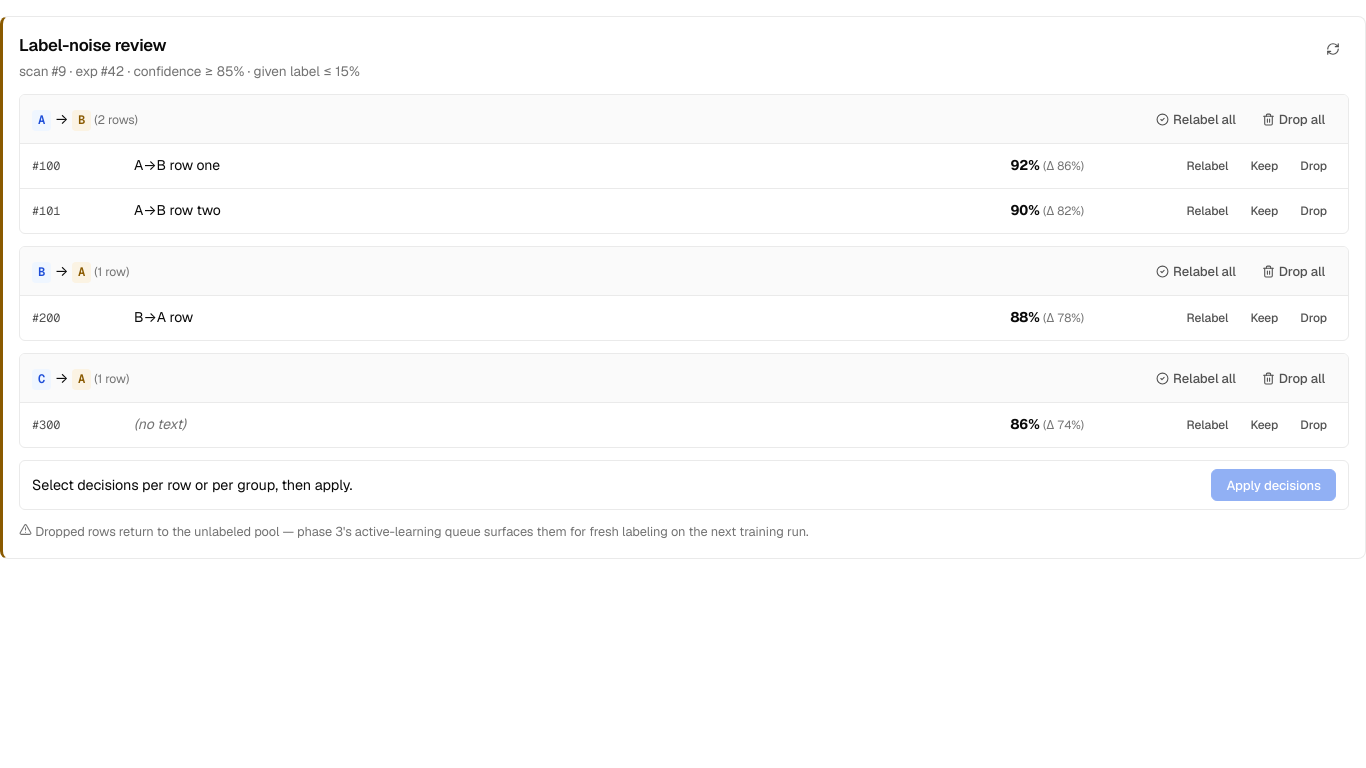
Test: LabelNoiseReviewPanel › renders per-row buttons that toggle decisions
Click the button "Drop" in the row of "100": (1314, 166) x1=1291 y1=152 x2=1336 y2=180
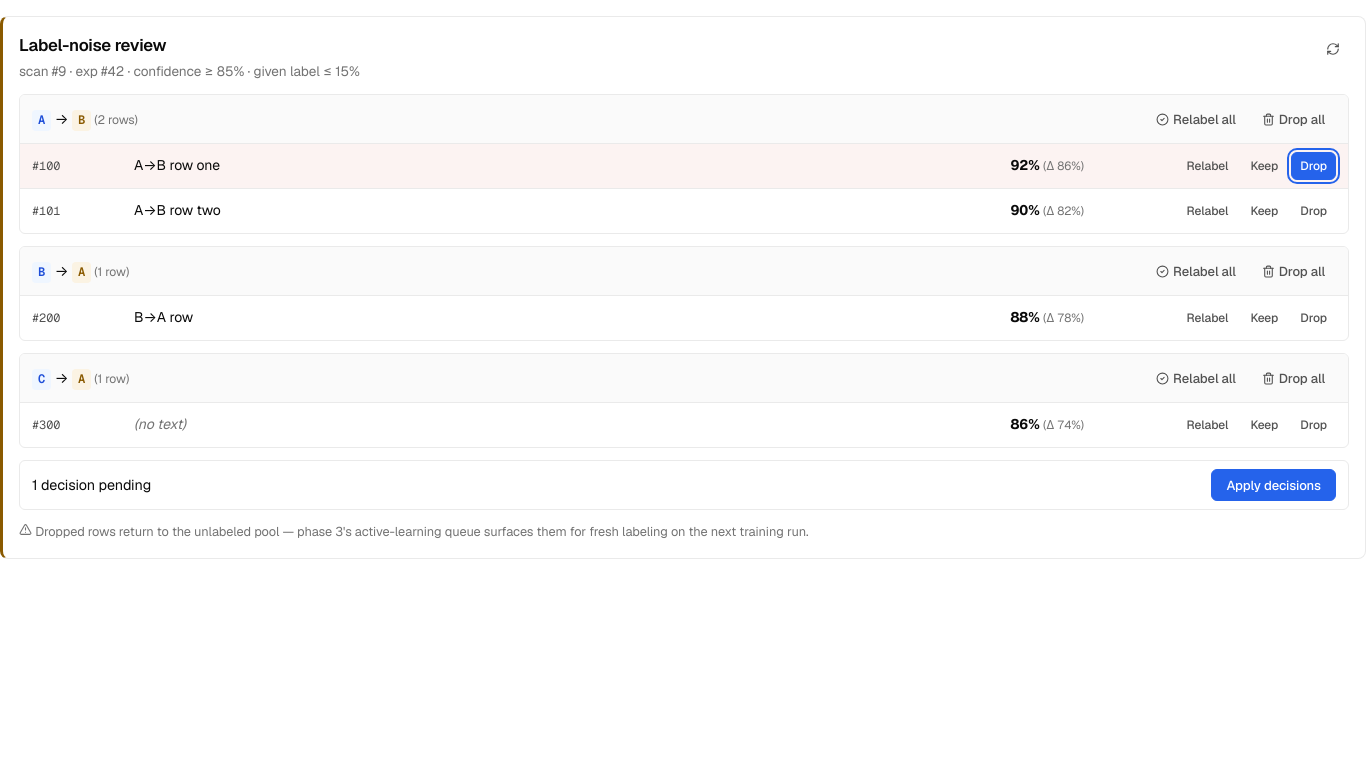
Now the text "1 decision pending" is shown, box x1=32 y1=474 x2=151 y2=496
# Click the same button again to toggle off.
Click the button "Drop" in the row of "100": (1314, 166) x1=1291 y1=152 x2=1336 y2=180
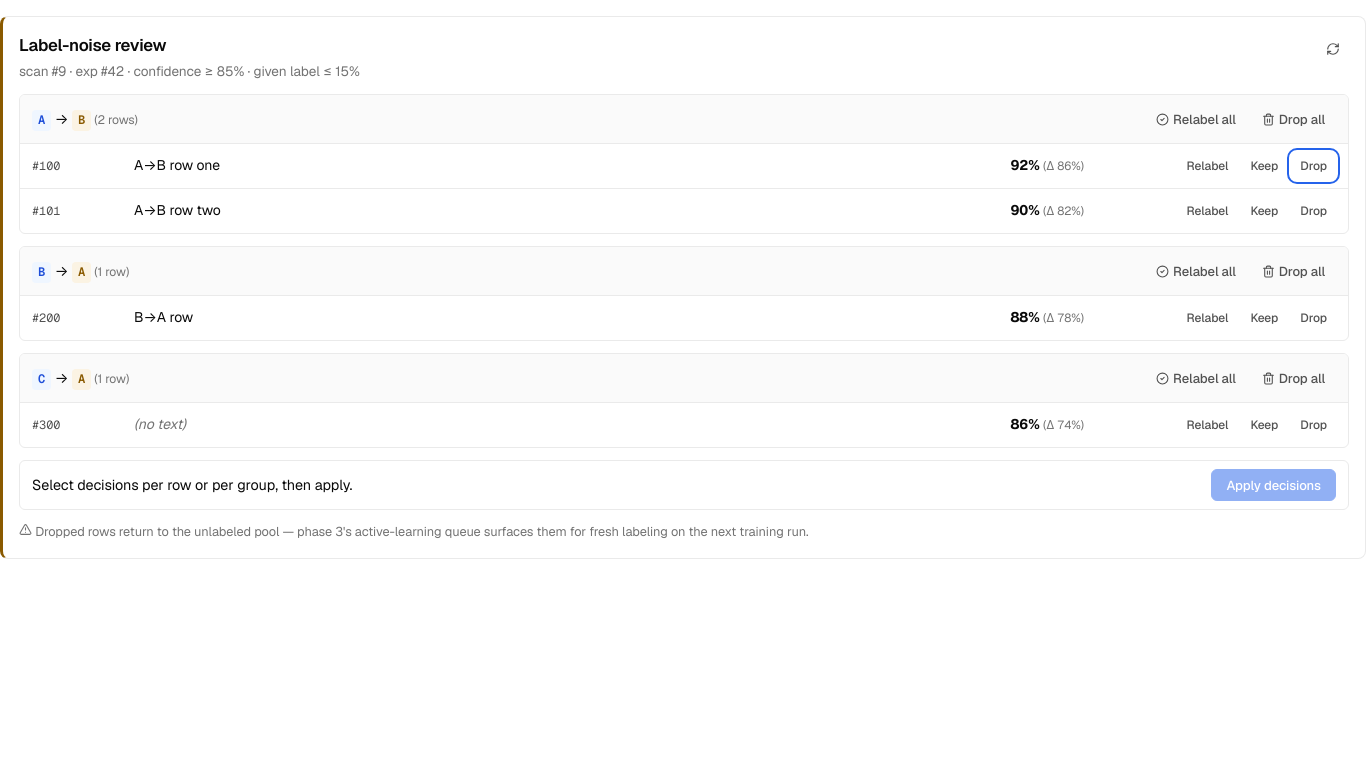
Now the text "Select decisions per row or per group, then apply." is shown, box x1=32 y1=474 x2=352 y2=496
